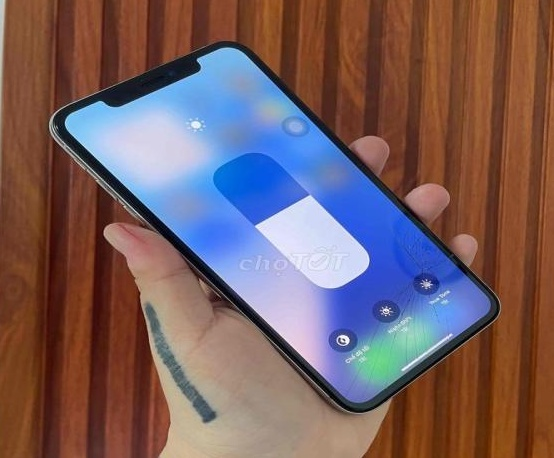physical_damage: (320, 202, 462, 399)
